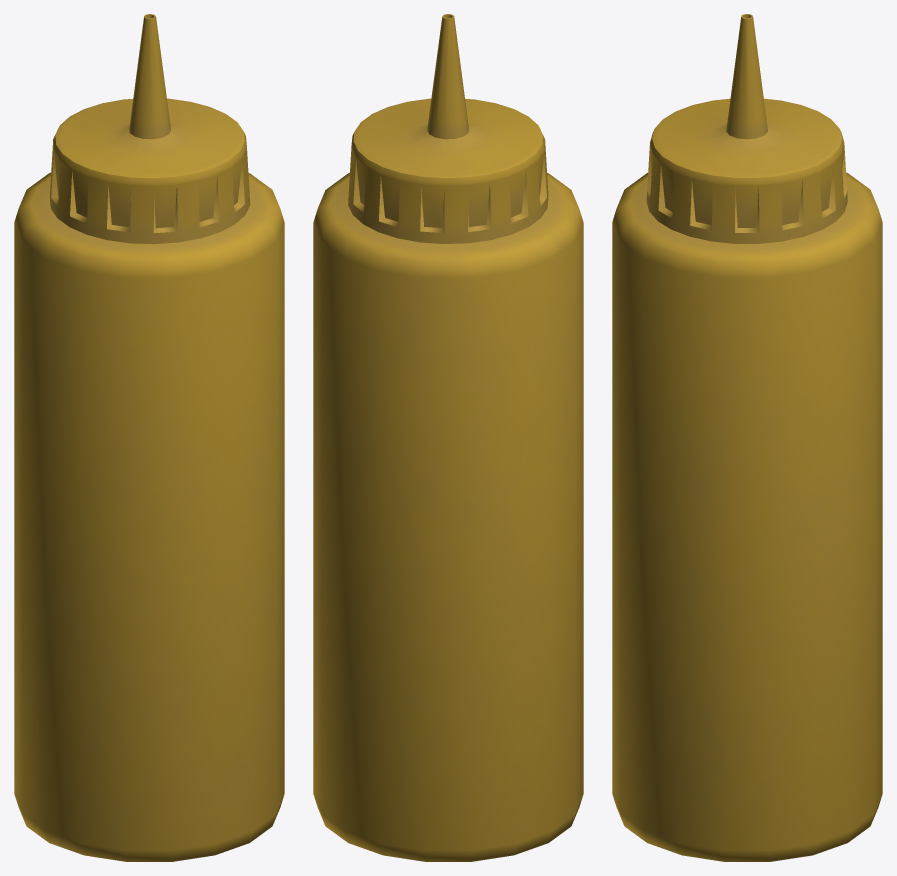
Rendered from SM_Mustard_01.fbx.
3 views of the same model, side by side, from view 1: azimuth 30°, elevation 25°; view 2: azimuth 150°, elevation 25°; view 3: azimuth 270°, elevation 25° (orthographic).
Parts seen in each view (by area): view 1: SM_Mustard_01_LOD0; view 2: SM_Mustard_01_LOD0; view 3: SM_Mustard_01_LOD0.
Boxes of the visible parts, x1,y1,x2,y2 form: SM_Mustard_01_LOD0: (14, 14, 284, 861); SM_Mustard_01_LOD0: (313, 14, 583, 861); SM_Mustard_01_LOD0: (612, 14, 882, 861).
Bounding box in the file's own units: 7.64 × 7.76 × 25.21.
1 material, 1 textured.
